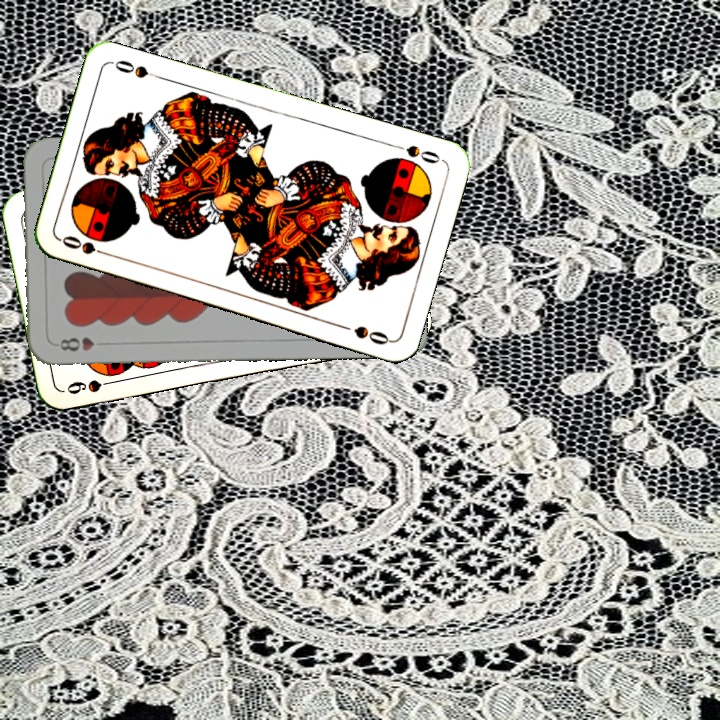H8: (52, 333, 111, 354)
S9: (62, 375, 121, 397)
SO: (57, 231, 115, 260), (387, 140, 445, 167)
